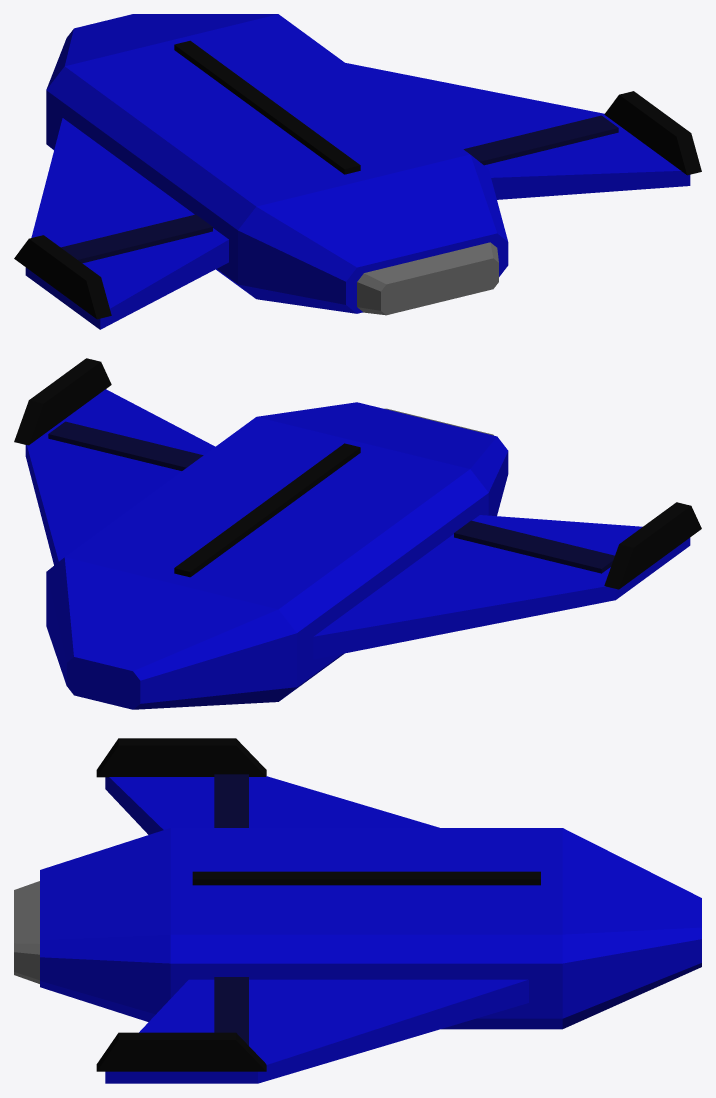
Rendered from Legs_Glide.obj.
3 views of the same model, one above another, from view 1: azimuth 30°, elevation 25°; view 2: azimuth 150°, elevation 25°; view 3: azimuth 270°, elevation 25° (orthographic). The views are drawn at different scales.
Parts seen in each view (by area): view 1: hblue, black, tgray, navy; view 2: hblue, black, navy; view 3: hblue, black, navy, tgray.
Part boxes in pixels (<box>): hblue: <box>25,14,690,329</box>; black: <box>14,40,701,319</box>; tgray: <box>357,242,498,315</box>; navy: <box>61,115,618,263</box>; hblue: <box>25,389,690,709</box>; black: <box>14,358,701,589</box>; navy: <box>48,421,614,573</box>; hblue: <box>40,776,701,1083</box>; black: <box>96,738,540,1071</box>; navy: <box>214,774,248,1045</box>; tgray: <box>14,881,39,983</box>.
Size of the model in its own units: 1.64 by 0.254 by 1.58.
